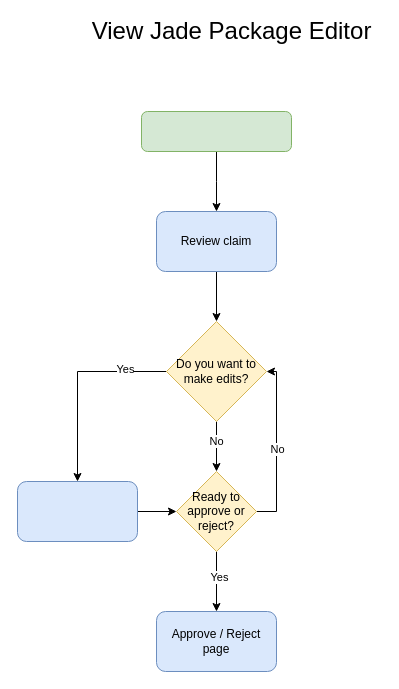
This 399x689 diagram has some shape labels left out. The shapes that lost their labels are listed below. From the top down, each one's centre as x and y in pixels, then its label:
At pixel 216 131: "Start".
At pixel 77 511: "Make edits using toolbar.".
